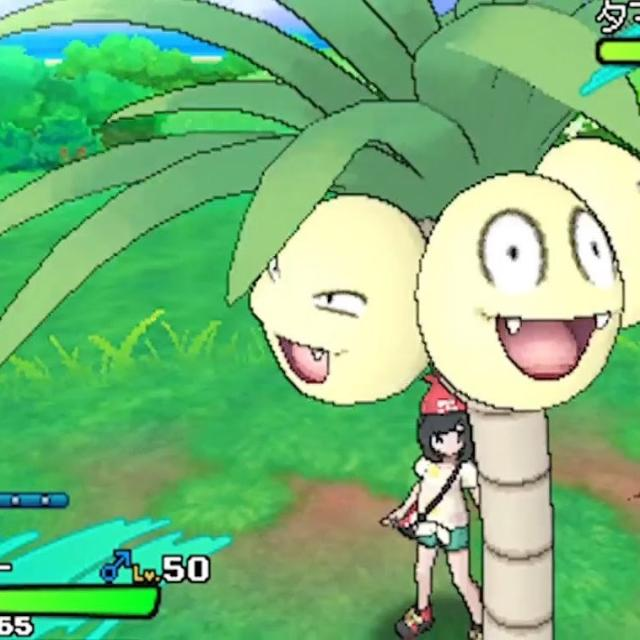Exeggutor: (248, 95, 640, 638)
